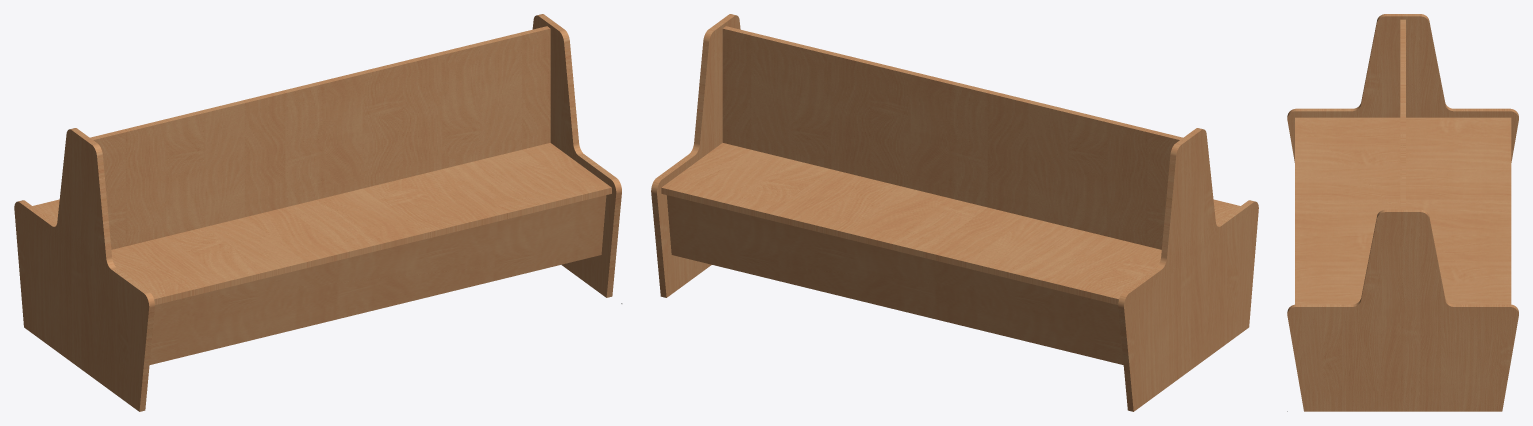
Rendered from divan_cheburashka_1_derevo.glb.
The picture shows the model from 3 angles, left to right: view 1: azimuth 30°, elevation 25°; view 2: azimuth 150°, elevation 25°; view 3: azimuth 270°, elevation 25°; orthographic projection. The views are drawn at different scales.
Visible parts, largest first — view 1: Shape_IndexedFaceSet, Shape_IndexedFaceSet.003, Shape_IndexedFaceSet.002, Shape_IndexedFaceSet.004, Shape_IndexedFaceSet.005; view 2: Shape_IndexedFaceSet, Shape_IndexedFaceSet.003, Shape_IndexedFaceSet.001, Shape_IndexedFaceSet.004, Shape_IndexedFaceSet.005; view 3: Shape_IndexedFaceSet.003, Shape_IndexedFaceSet.005, Shape_IndexedFaceSet.004, Shape_IndexedFaceSet.
Part boxes in pixels (x1,y1,x2,y2): Shape_IndexedFaceSet: (90,26,550,249); Shape_IndexedFaceSet.003: (33,143,611,304); Shape_IndexedFaceSet.002: (149,195,606,364); Shape_IndexedFaceSet.004: (14,128,154,411); Shape_IndexedFaceSet.005: (532,14,621,297); Shape_IndexedFaceSet: (722,26,1182,249); Shape_IndexedFaceSet.003: (661,143,1240,304); Shape_IndexedFaceSet.001: (666,195,1123,364); Shape_IndexedFaceSet.004: (1118,128,1258,411); Shape_IndexedFaceSet.005: (651,14,740,297); Shape_IndexedFaceSet.003: (1295,117,1511,304); Shape_IndexedFaceSet.005: (1287,209,1518,411); Shape_IndexedFaceSet.004: (1287,14,1518,162); Shape_IndexedFaceSet: (1400,19,1405,209).
Bounding box in the file's own units: 1301 × 611 × 643.
Materials: 7 (6 with a texture image).
